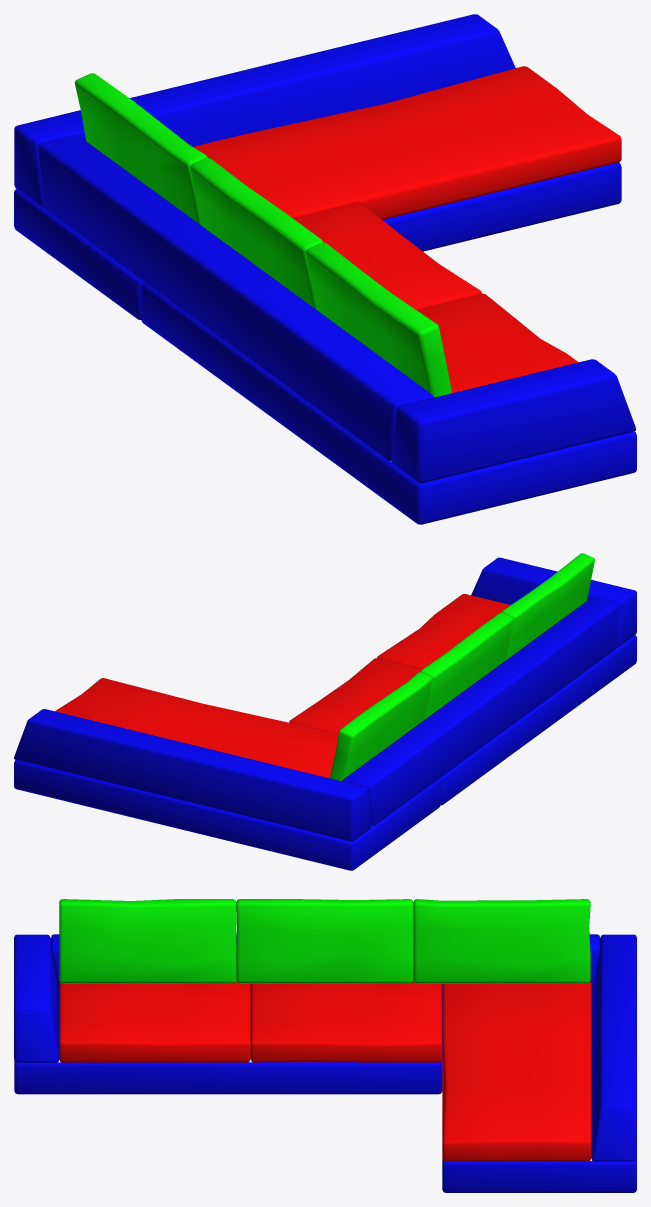
Rendered from corner_sofa_base.glb.
3 renders of one model, top to bottom at view 1: azimuth 30°, elevation 25°; view 2: azimuth 150°, elevation 25°; view 3: azimuth 270°, elevation 25°, orthographic. The views are drawn at different scales.
Visible parts, largest first — view 1: Sofa_Complete; view 2: Sofa_Complete; view 3: Sofa_Complete.
Boxes of the visible parts, x1,y1,x2,y2 form: Sofa_Complete: [14, 14, 636, 524]; Sofa_Complete: [14, 553, 636, 870]; Sofa_Complete: [14, 899, 636, 1192].
Bounding box in the file's own units: 4.4 × 1.5 × 6.4.
